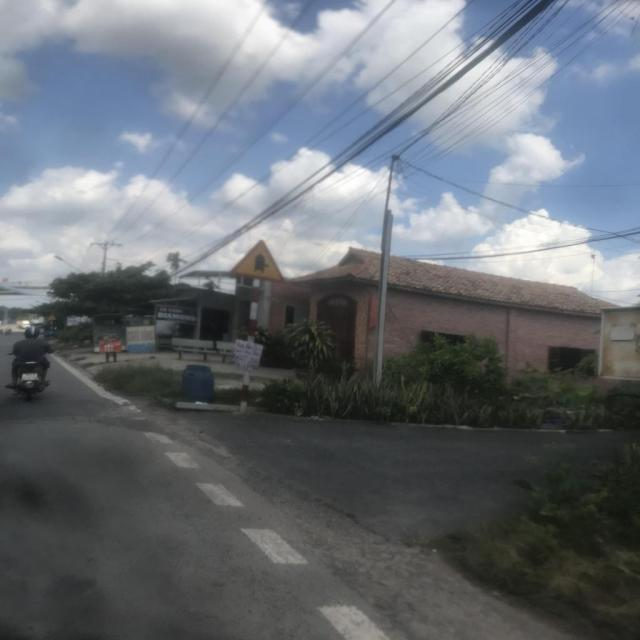giao_nhau_voi_duong_khong_uu_tien: (228, 239, 286, 284)
